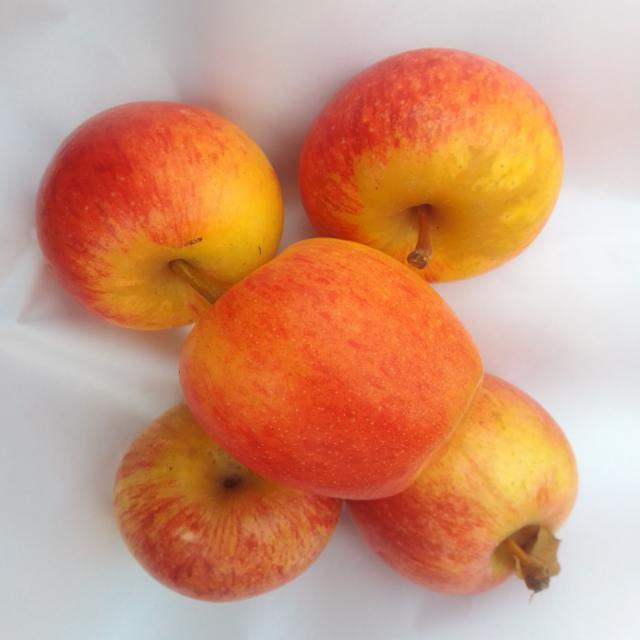Fresh Apple: (180, 243, 480, 505), (298, 53, 557, 285), (35, 103, 293, 325), (120, 405, 338, 598), (386, 372, 576, 588)
